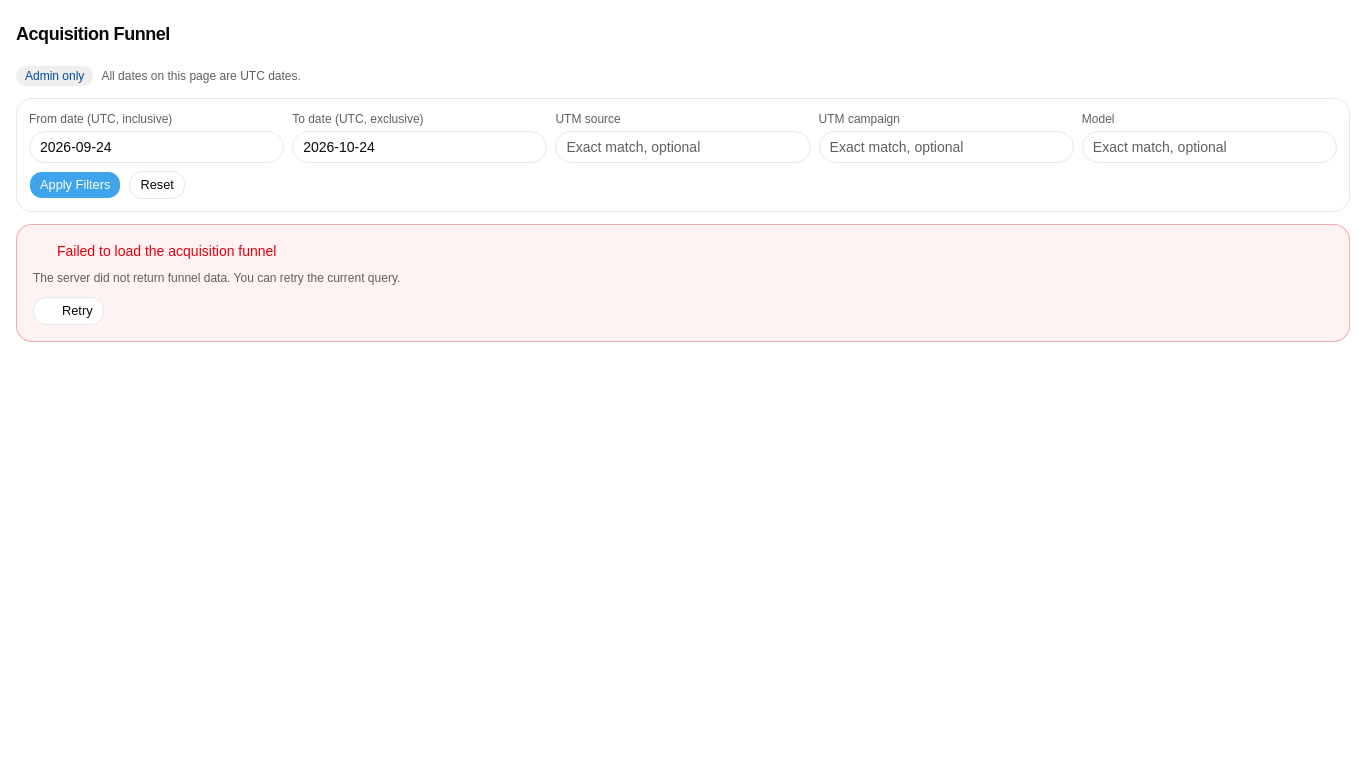
it: acquisition funnel page behavior › shows an error state with a working single-query Retry
Expected: the text "Failed to load the acquisition funnel" is shown, left=33, top=241, right=276, bottom=261
Click the button "Retry". click: (68, 310)
box: left=33, top=296, right=104, bottom=324
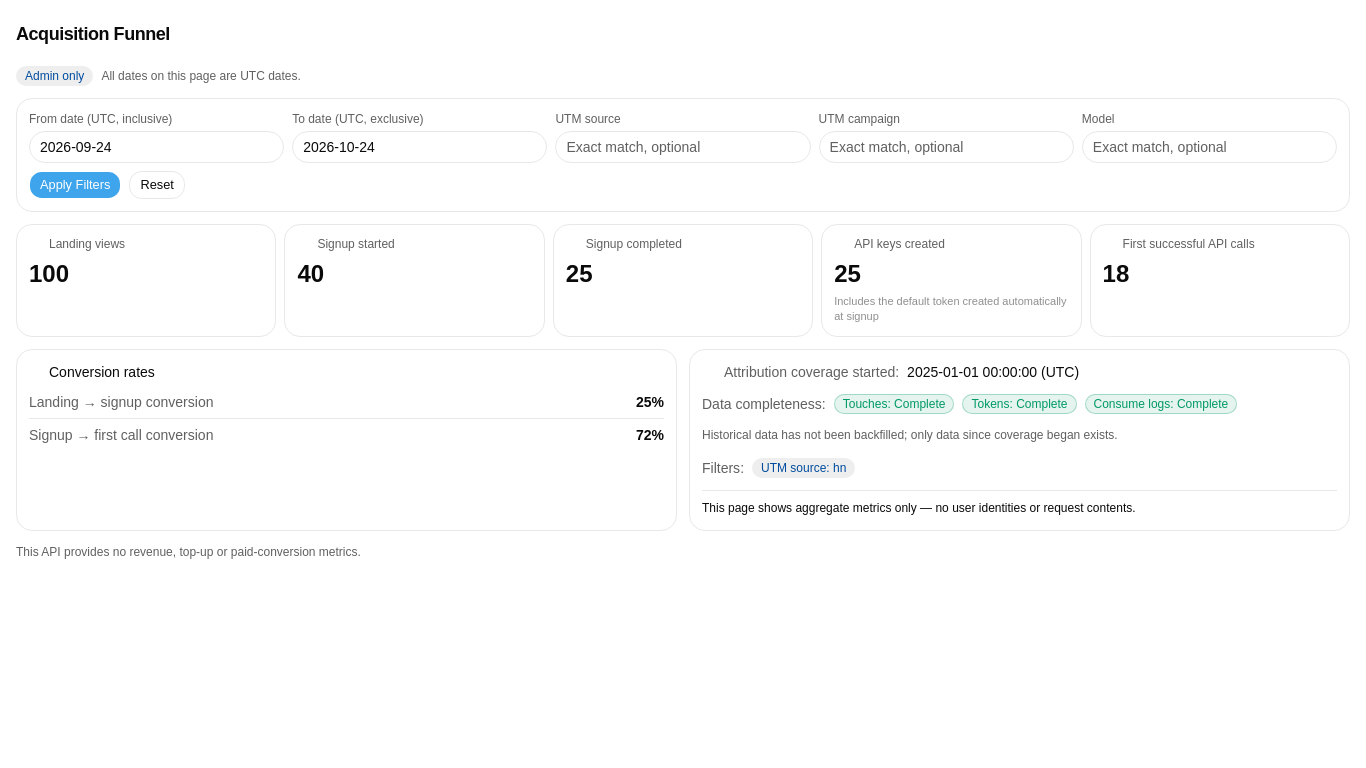
Result: the text "Landing views" is shown at left=49, top=237, right=125, bottom=252
